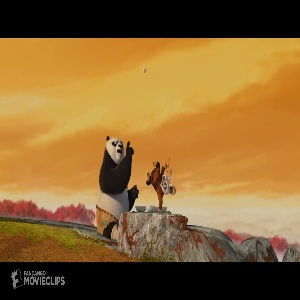po: (94, 133, 140, 239)
shifu: (145, 156, 179, 211)
